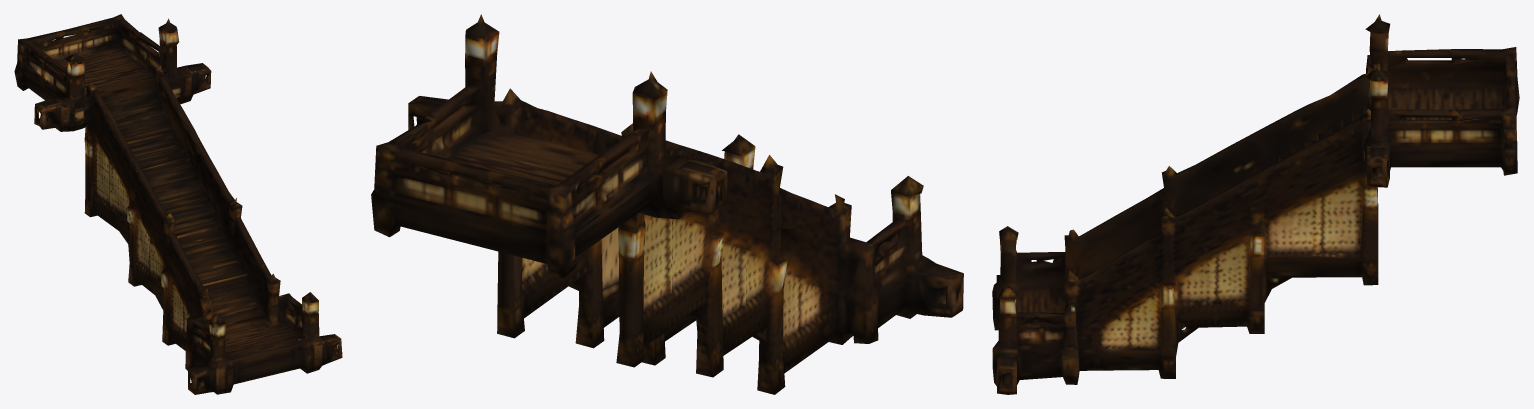
The model's file is Stares_LOD2.fbx.
3 renders of one model, left to right at view 1: azimuth 30°, elevation 25°; view 2: azimuth 150°, elevation 25°; view 3: azimuth 270°, elevation 25°, orthographic. The views are drawn at different scales.
Parts seen in each view (by area): view 1: node_0.001; view 2: node_0.001; view 3: node_0.001.
Boxes of the visible parts, left/top/right/bottom form: node_0.001: left=14, top=14, right=342, bottom=394; node_0.001: left=371, top=14, right=963, bottom=394; node_0.001: left=992, top=14, right=1519, bottom=394.
Size of the model in its own units: 46.79 by 64.91 by 96.37.
1 material, 1 textured.
